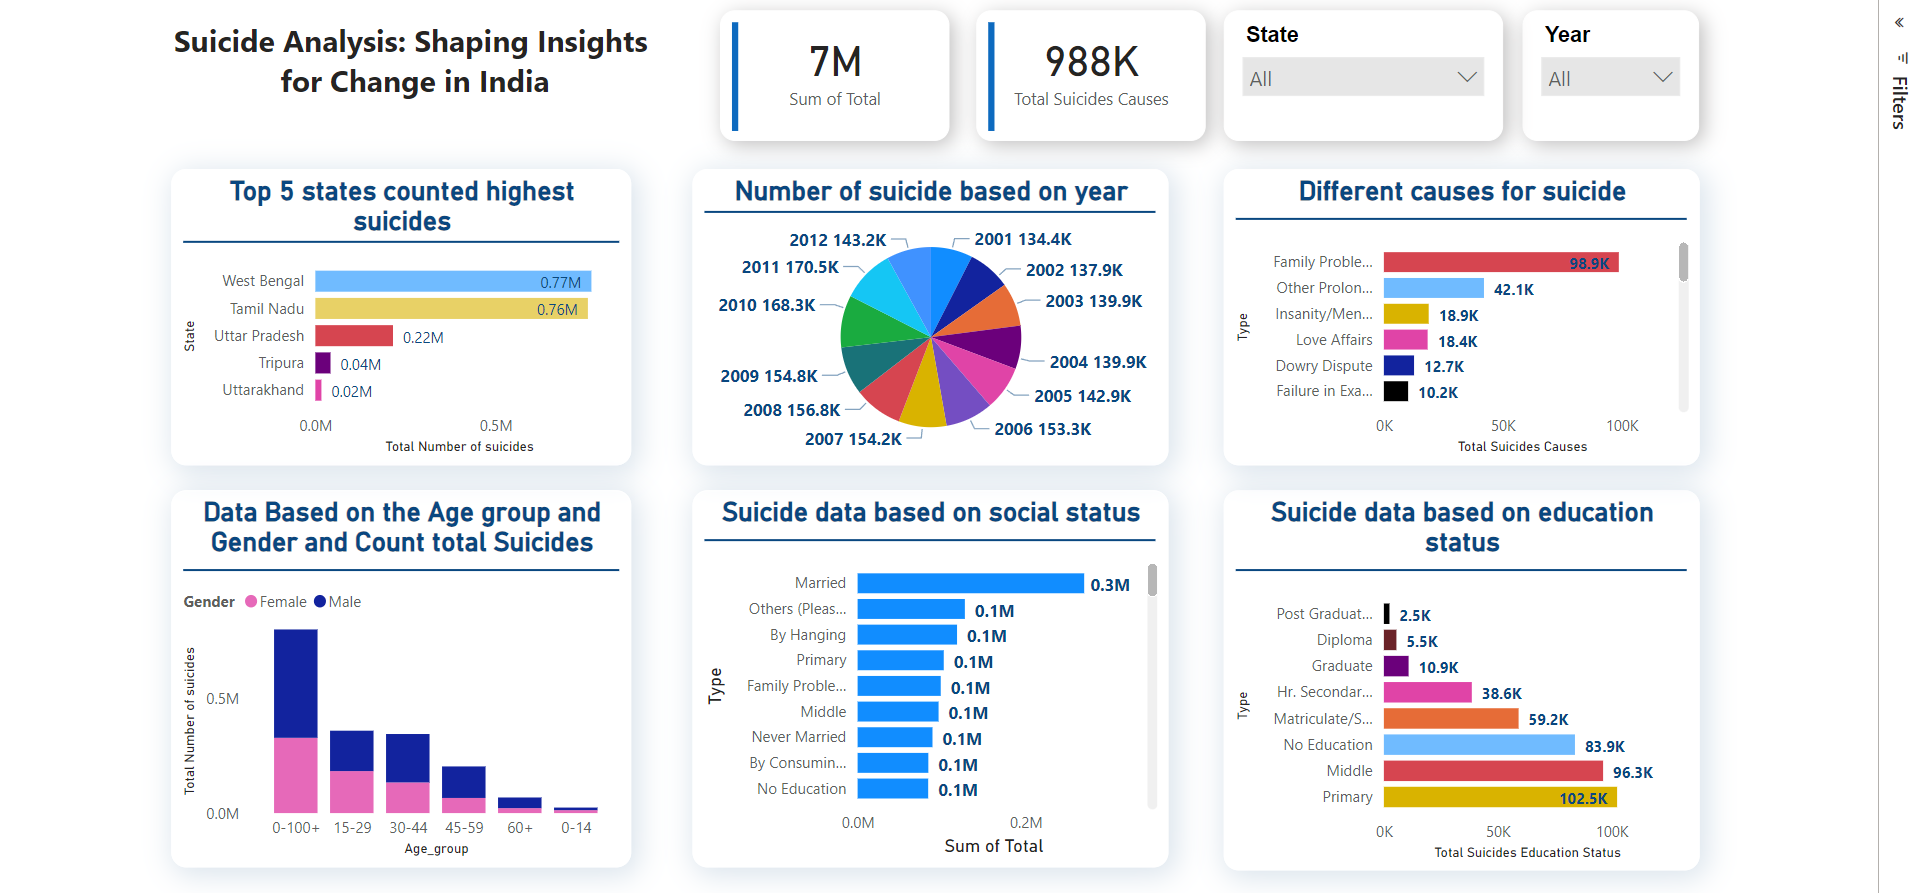

What the dashboard file says about the page in this screenshot:
{"tool":"powerbi","page":{"name":"Page 1","canvas":[1280,720],"ordinal":0},"visuals":[{"type":"barChart","title":"Top 5 states counted highest suicides","fields":{"Category":["filtered_suicide.State"],"Y":["Sum(filtered_suicide.Total)"]},"box":[25,136.2,368.8,237.5],"z":0},{"type":"columnChart","title":"Data Based on the Age group and Gender and Count total Suicides","fields":{"Category":["filtered_suicide.Age_group"],"Y":["Sum(filtered_suicide.Total)"],"Series":["filtered_suicide.Gender"]},"box":[25,393.8,368.8,302.5],"z":1000},{"type":"pieChart","title":"Number of suicide based on year","fields":{"Series":["filtered_suicide.Year"],"Y":["Sum(filtered_suicide.Total)"]},"box":[442.5,136.2,381.2,237.5],"z":2000},{"type":"clusteredBarChart","title":"Suicide data based on social status","fields":{"Y":["Sum(filtered_suicide.Total)"],"Category":["filtered_suicide.Type"]},"box":[442.5,393.8,381.2,302.5],"z":3000},{"type":"clusteredBarChart","title":"Suicide data based on education status","fields":{"Y":["filtered_suicide.Total Suicides Education Status"],"Category":["filtered_suicide.Type"]},"box":[868.8,393.8,381.2,305],"z":4000},{"type":"clusteredBarChart","title":"Different causes for suicide","fields":{"Category":["filtered_suicide.Type"],"Y":["filtered_suicide.Total Suicides Causes"]},"box":[868.8,136.2,381.2,237.5],"z":5000},{"type":"textbox","box":[11.2,12.5,418.8,98.8],"z":6000},{"type":"cardVisual","fields":{"Data":["Sum(filtered_suicide.Total)"]},"box":[465,8.7,183.8,105],"z":7000},{"type":"cardVisual","fields":{"Data":["filtered_suicide.Total Suicides Causes"]},"box":[670,8.7,183.8,105],"z":8000},{"type":"slicer","fields":{"Values":["filtered_suicide.Year"]},"box":[1108.8,8.7,141.2,105],"z":9000},{"type":"slicer","fields":{"Values":["filtered_suicide.State"]},"box":[868.8,8.7,223.8,105],"z":9001}]}

Visuals, with their boxes on the page's 1280x720 design canvas (x1, y1, x2, y2). These are canvas units, not pixel positions in the 1919x893 screenshot, which may show the page scaled, cropped or inside an application window:
"Top 5 states counted highest suicides" barChart: BBox(25, 136, 394, 374)
"Data Based on the Age group and Gender and Count total Suicides" columnChart: BBox(25, 394, 394, 696)
"Number of suicide based on year" pieChart: BBox(442, 136, 824, 374)
"Suicide data based on social status" clusteredBarChart: BBox(442, 394, 824, 696)
"Suicide data based on education status" clusteredBarChart: BBox(869, 394, 1250, 699)
"Different causes for suicide" clusteredBarChart: BBox(869, 136, 1250, 374)
textbox: BBox(11, 12, 430, 111)
cardVisual - Sum(filtered_suicide.Total): BBox(465, 9, 649, 114)
cardVisual - filtered_suicide.Total Suicides Causes: BBox(670, 9, 854, 114)
slicer - filtered_suicide.Year: BBox(1109, 9, 1250, 114)
slicer - filtered_suicide.State: BBox(869, 9, 1093, 114)
